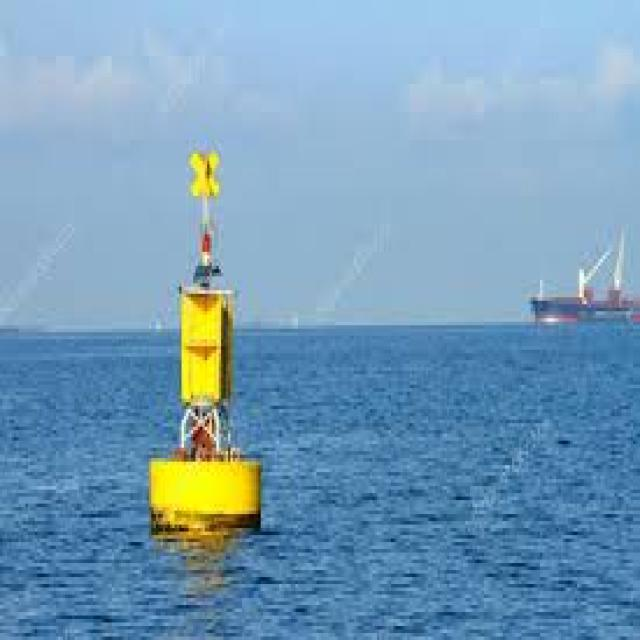buoy: (140, 119, 265, 561)
